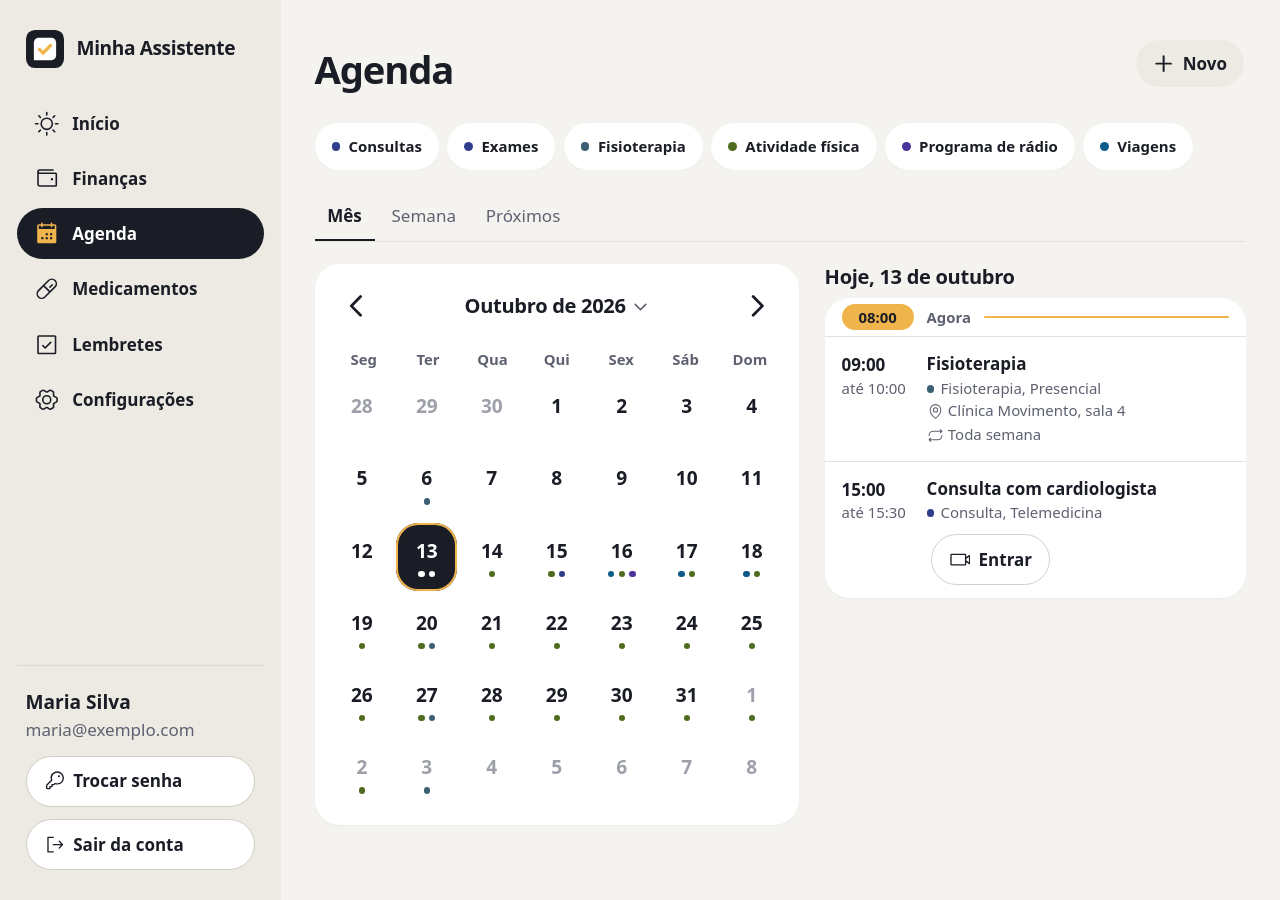
Test: calendário da agenda › navega entre os meses
Click the button named "Próximo mês". click: (757, 306)
box: [731,280,782,332]
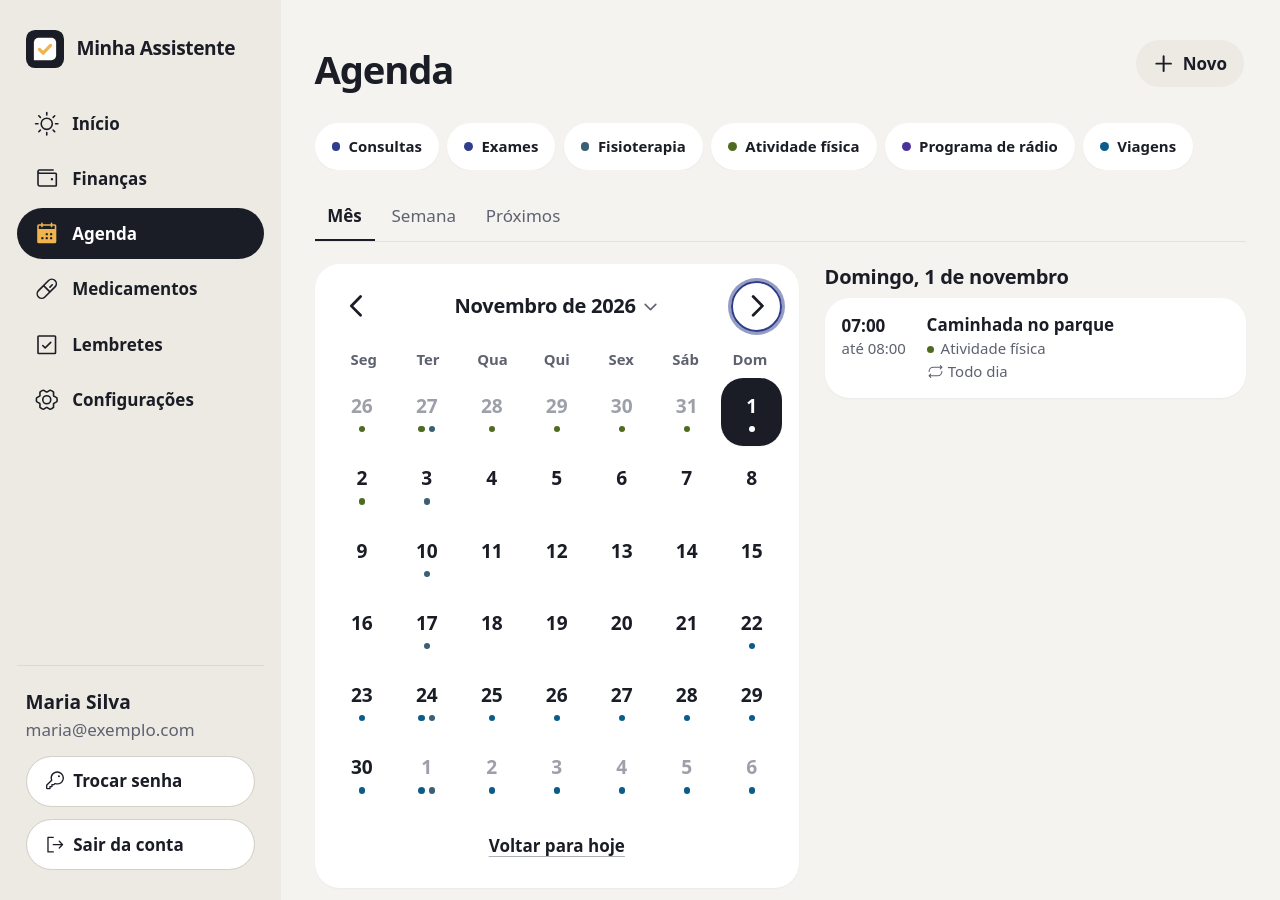
Expected: the table named "Dias de novembro de 2026" is shown, [332,344,782,808]
Expected: the button named "1 de novembro" is shown, [721,378,782,446]
Click the button named "Mês anterior". click: (357, 306)
box: [332,280,382,332]
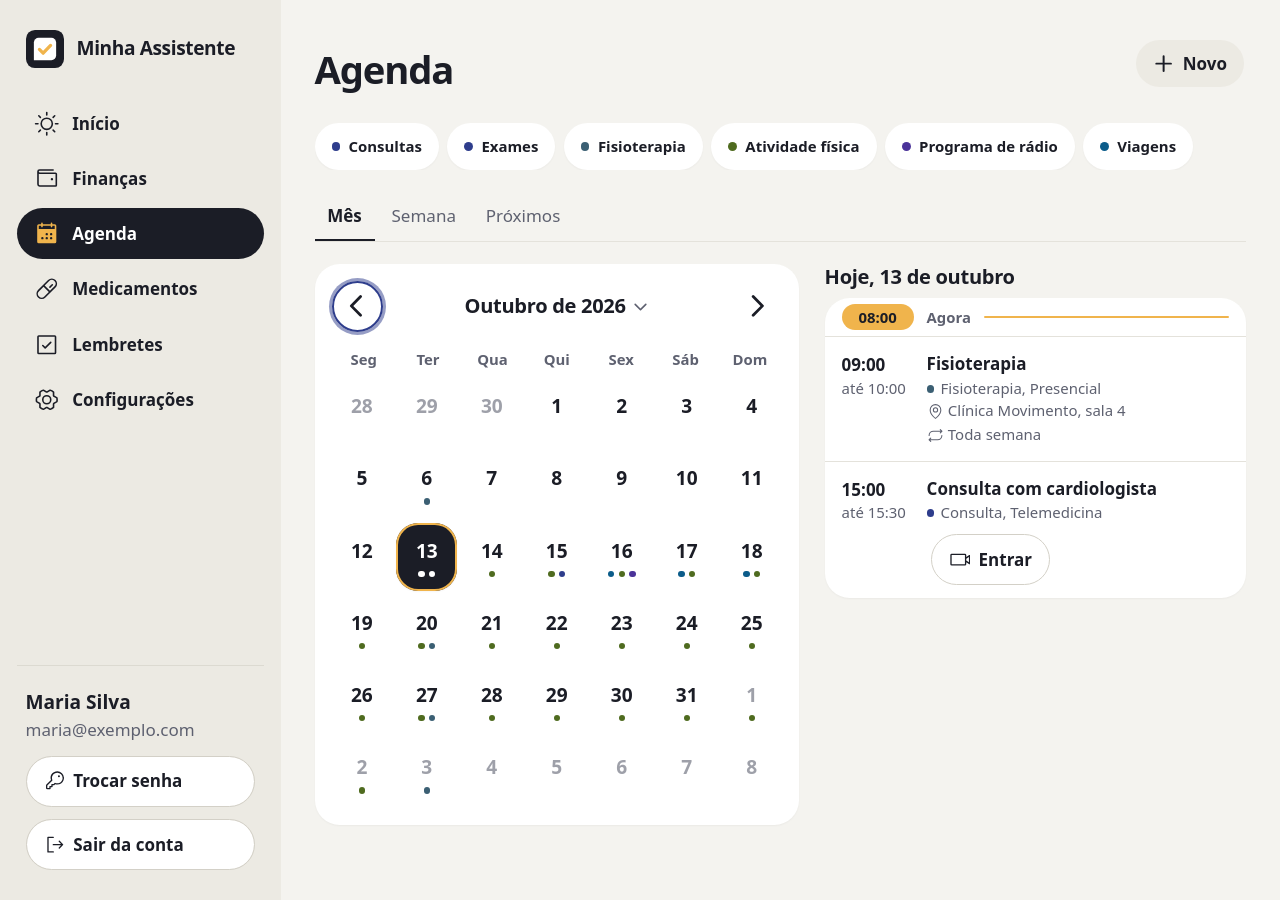
Click the button named "Mês anterior". click: (357, 306)
box: [332,280,382,332]
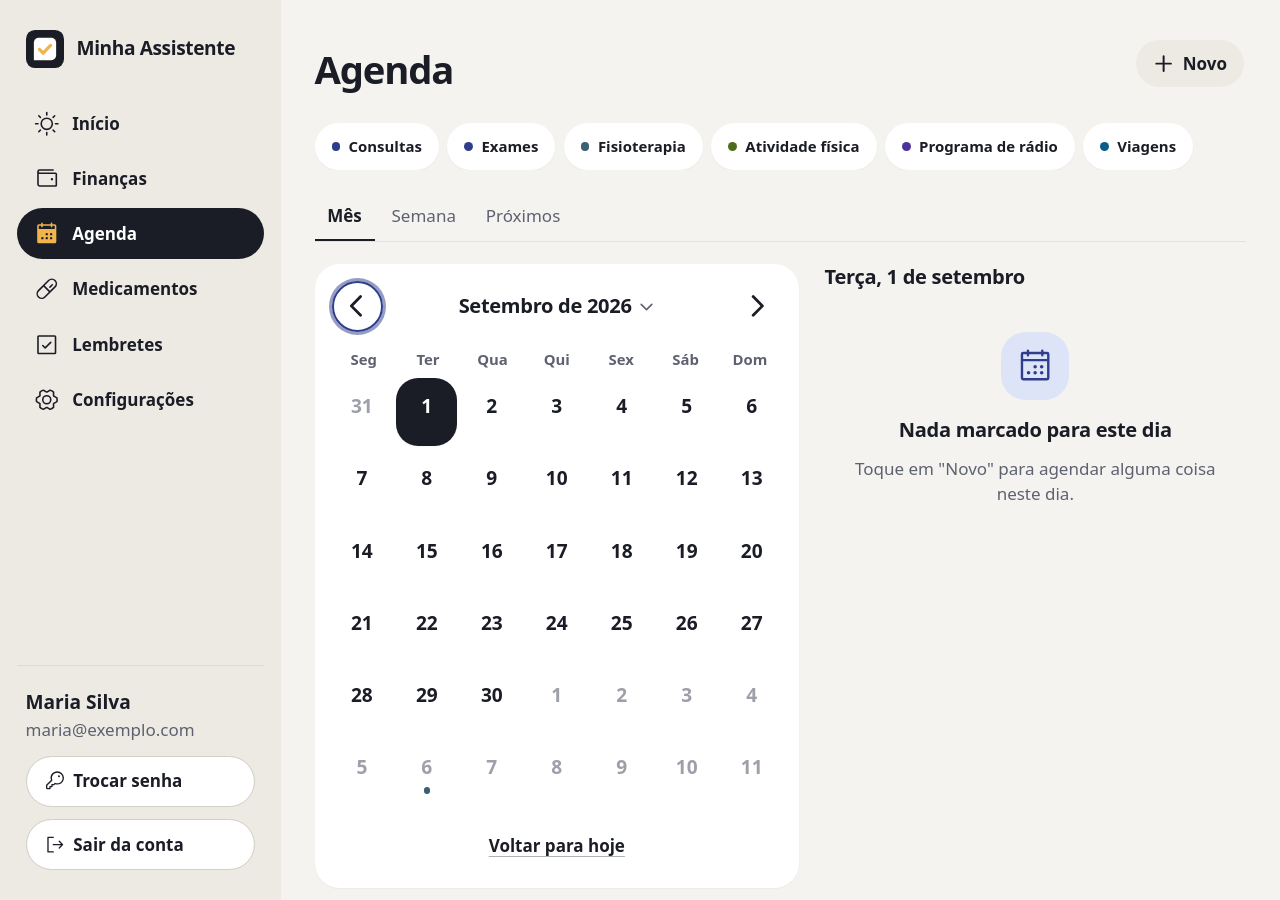
Expected: the table named "Dias de setembro de 2026" is shown, [332,344,782,808]
